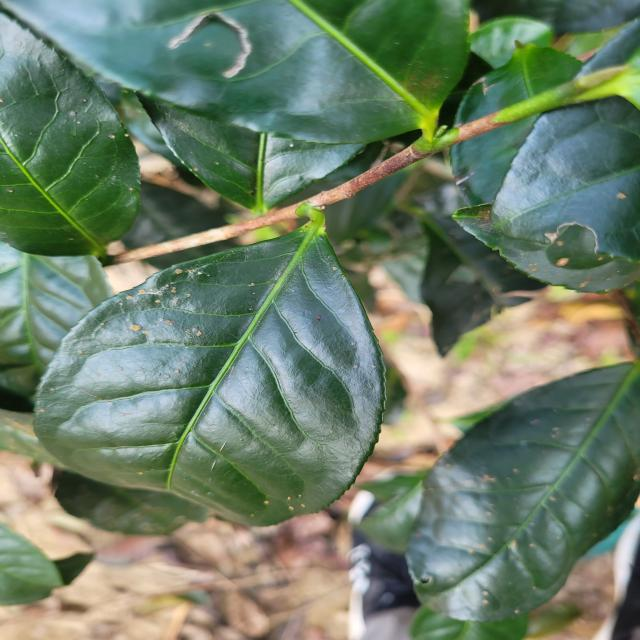Category D(7+ days, Not for Tea): (13, 218, 399, 531)
